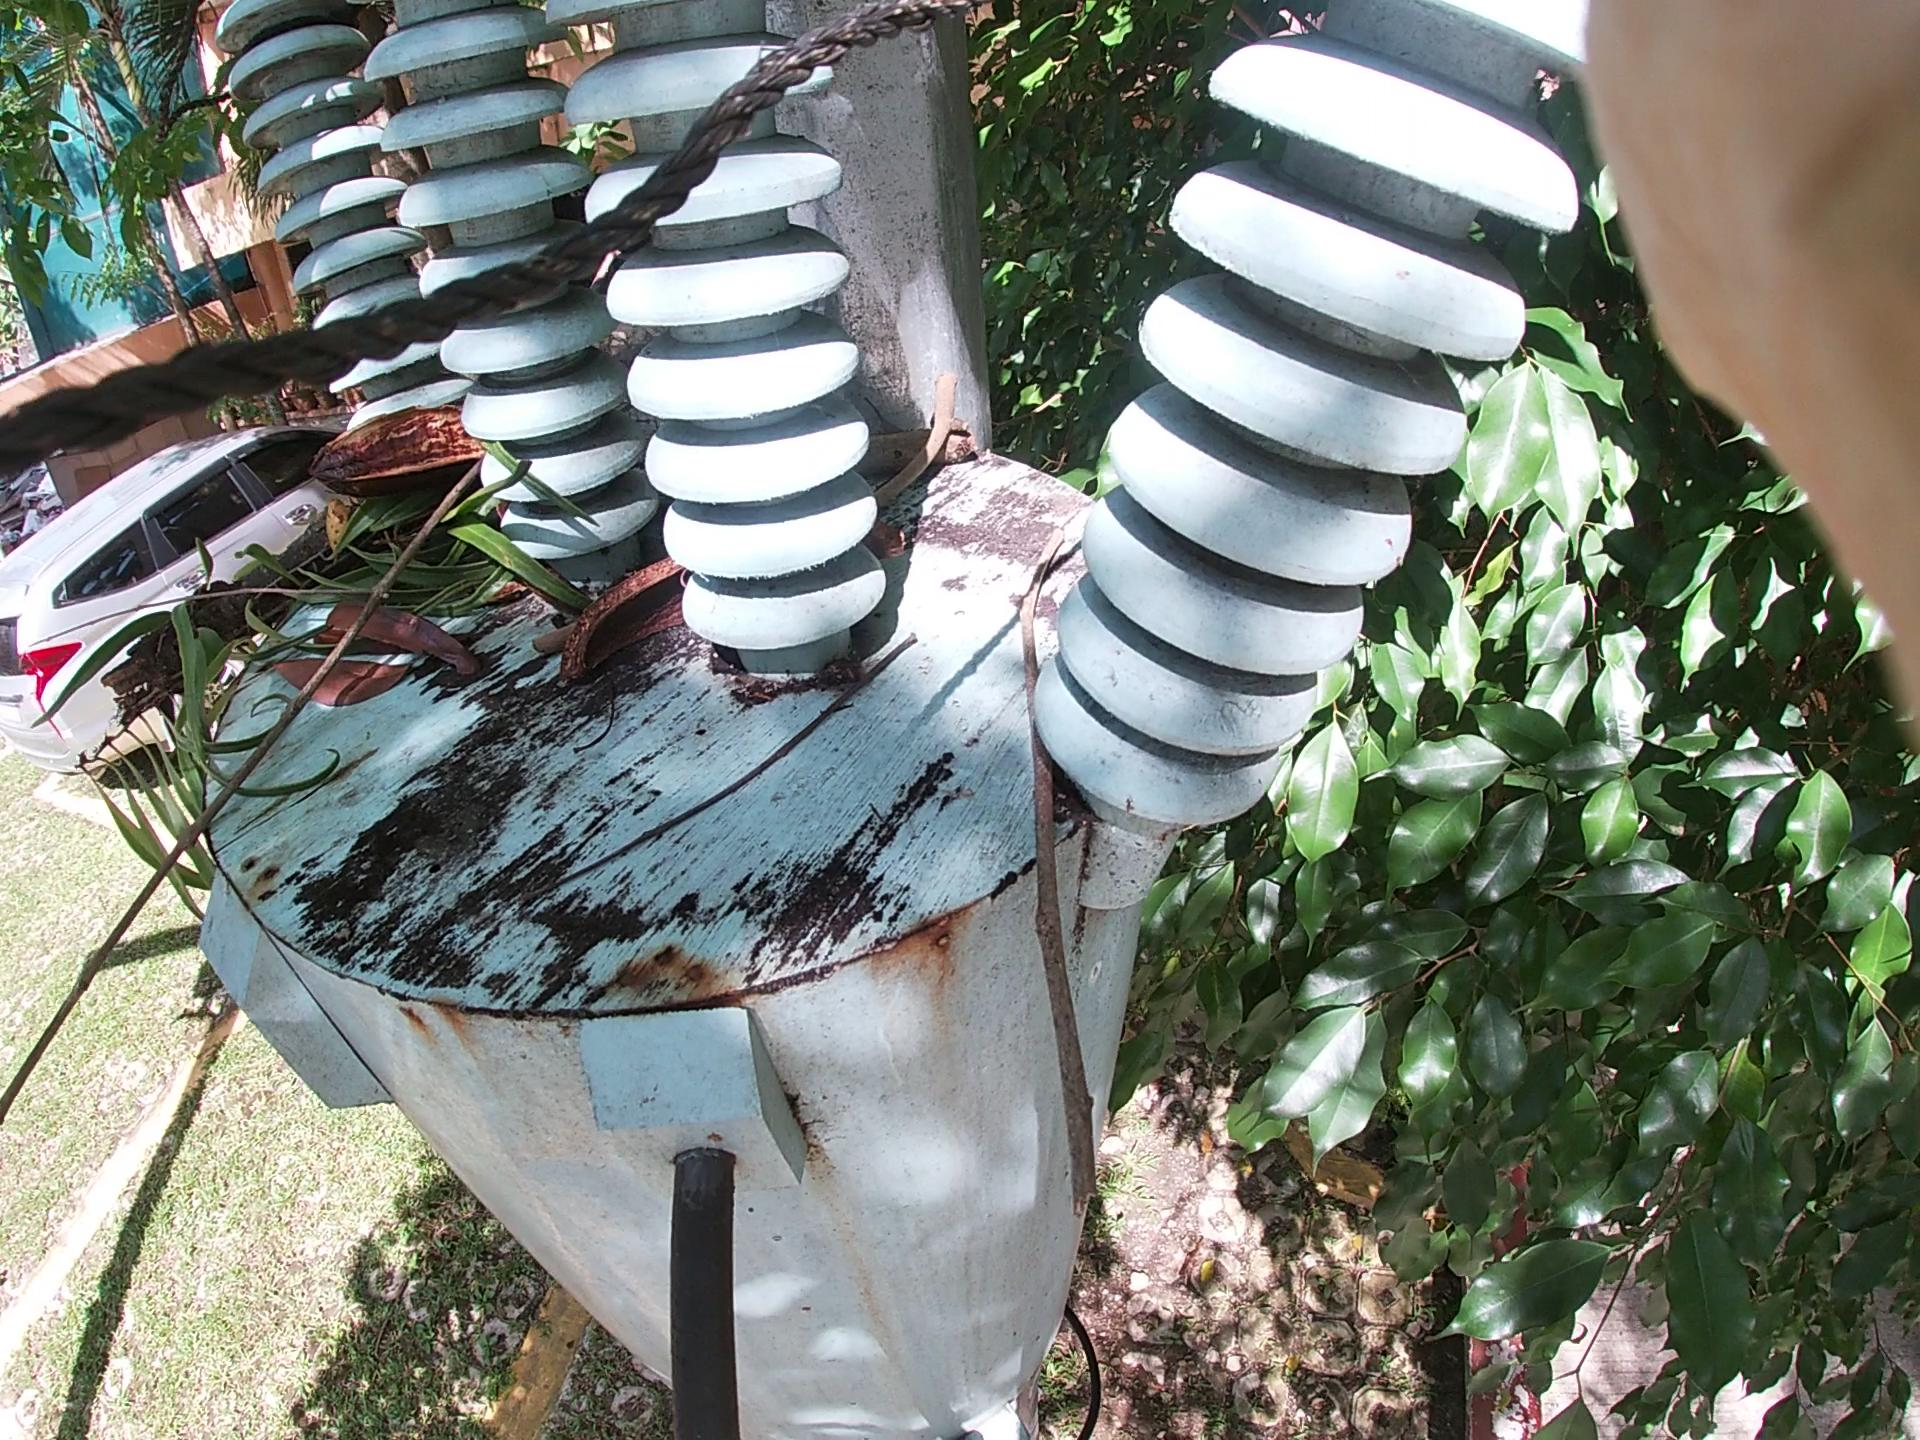branch with leaves: (97, 371, 954, 806)
leaf: (305, 582, 429, 829)
mahogany fruit: (257, 384, 543, 546), (550, 514, 804, 659)
tree branch: (23, 414, 470, 1103), (532, 413, 945, 666), (523, 626, 906, 883), (1014, 546, 1095, 1199)
